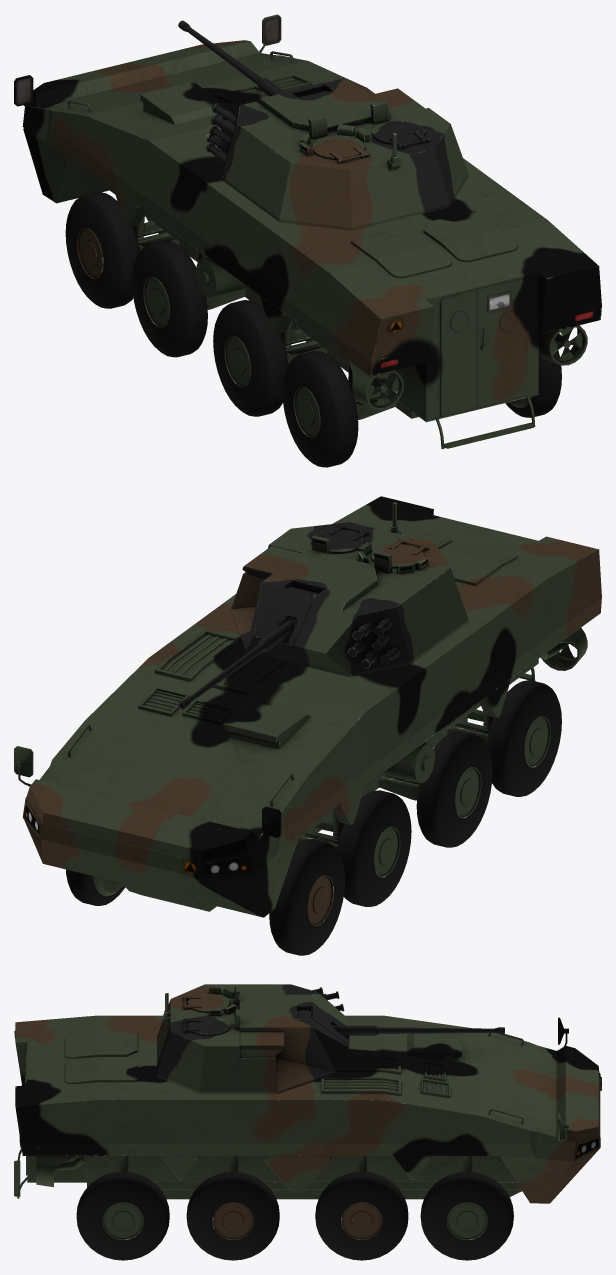
Rendered from rosomak_apc.glb.
3 views of the same model, one above another, from view 1: azimuth 30°, elevation 25°; view 2: azimuth 150°, elevation 25°; view 3: azimuth 270°, elevation 25° (orthographic). The views are drawn at different scales.
Visible parts, largest first — view 1: rosomak_apc, Wheel_L_5, Wheel_L_2, Wheel_L_3, Wheel_L_1, Wheel_R_5; view 2: rosomak_apc, Wheel_L_3, Wheel_L_5, Wheel_L_2, Wheel_L_1, Wheel_R_1; view 3: rosomak_apc, Wheel_R_5, Wheel_R_1, Wheel_R_3, Wheel_R_2.
Boxes of the visible parts, left/top/right/bottom form: rosomak_apc: left=14, top=14, right=601, bottom=449; Wheel_L_5: left=282, top=350, right=358, bottom=467; Wheel_L_2: left=132, top=240, right=207, bottom=357; Wheel_L_3: left=213, top=300, right=288, bottom=416; Wheel_L_1: left=65, top=192, right=139, bottom=308; Wheel_R_5: left=505, top=340, right=561, bottom=417; rosomak_apc: left=14, top=496, right=601, bottom=917; Wheel_L_3: left=416, top=731, right=492, bottom=847; Wheel_L_5: left=486, top=680, right=561, bottom=796; Wheel_L_2: left=337, top=790, right=411, bottom=906; Wheel_L_1: left=269, top=839, right=344, bottom=955; Wheel_R_1: left=66, top=869, right=125, bottom=905; rosomak_apc: left=14, top=984, right=601, bottom=1203; Wheel_R_5: left=76, top=1171, right=169, bottom=1260; Wheel_R_1: left=420, top=1171, right=513, bottom=1260; Wheel_R_3: left=186, top=1171, right=279, bottom=1260; Wheel_R_2: left=315, top=1171, right=408, bottom=1260.
Size of the model in its own units: 3.22 by 3.28 by 7.77.
Materials: 2 (2 with a texture image).
